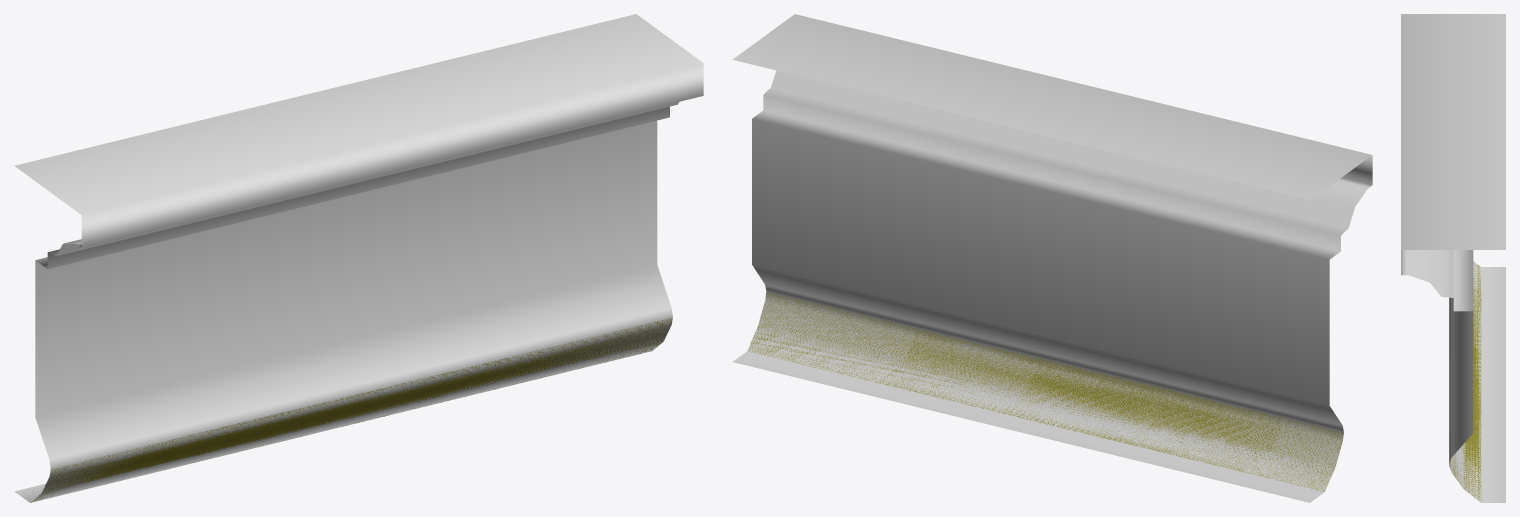
Rendered from SM_FriezeA2m.fbx.
3 renders of one model, left to right at view 1: azimuth 30°, elevation 25°; view 2: azimuth 150°, elevation 25°; view 3: azimuth 270°, elevation 25°, orthographic. The views are drawn at different scales.
Parts seen in each view (by area): view 1: SM_FriezeA2m; view 2: SM_FriezeA2m; view 3: SM_FriezeA2m.
Boxes of the visible parts, x1,y1,x2,y2 form: SM_FriezeA2m: (14,14,703,502); SM_FriezeA2m: (732,14,1372,502); SM_FriezeA2m: (1401,14,1505,502).
Bounding box in the file's own units: 200 × 100 × 37.5.
